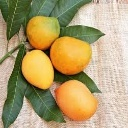mango: (21, 50, 55, 91)
